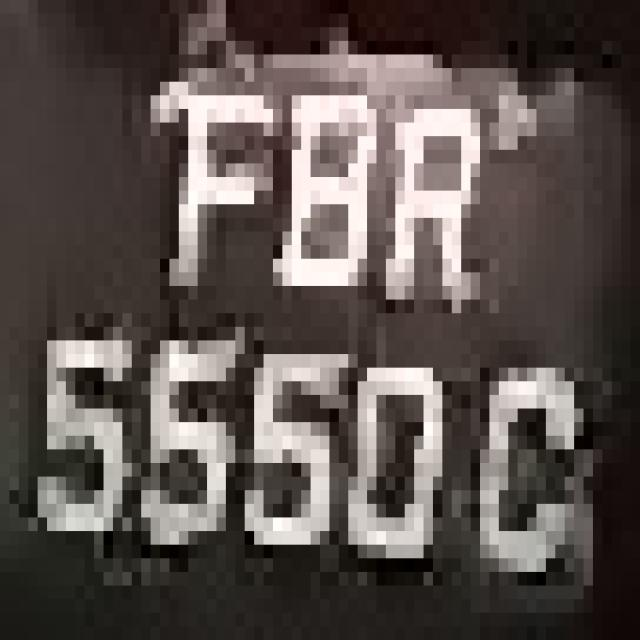0: (311, 340, 461, 613)
5: (235, 286, 348, 599), (122, 299, 235, 572), (28, 286, 132, 545)
B: (245, 82, 376, 340)
C: (452, 341, 564, 599)
F: (122, 0, 282, 272)
R: (367, 95, 489, 327)
